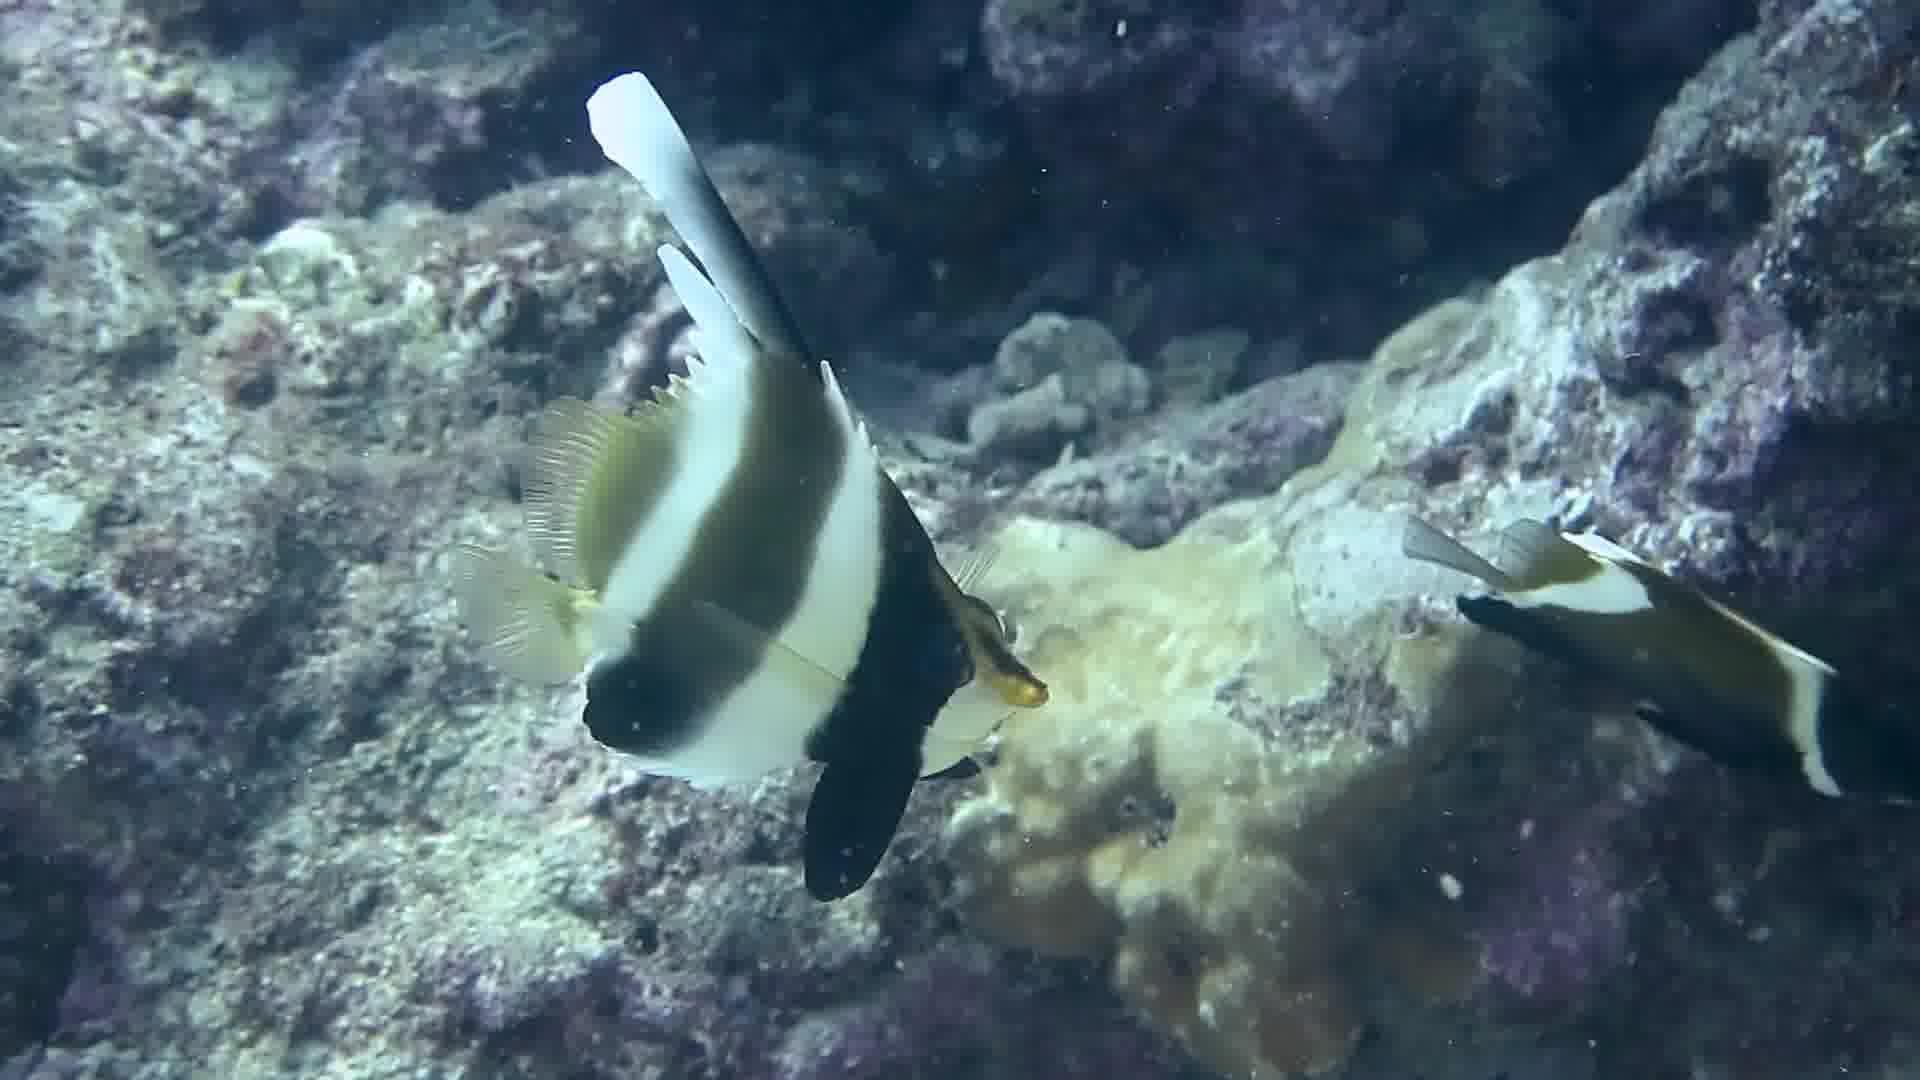Heniochus chrysostomus: (384, 1, 1113, 967), (1414, 274, 1902, 905)
